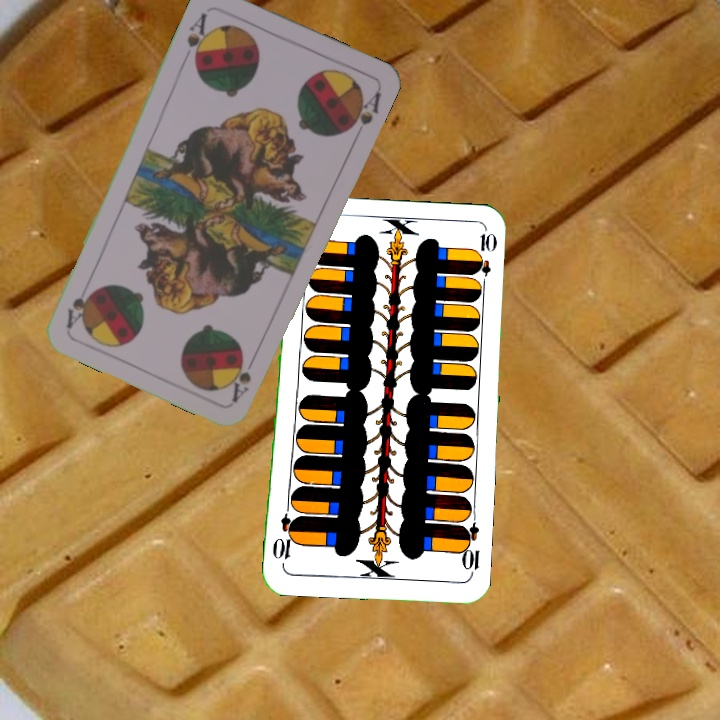E10: (456, 519, 482, 578)
SA: (226, 348, 260, 405), (182, 8, 213, 67)
